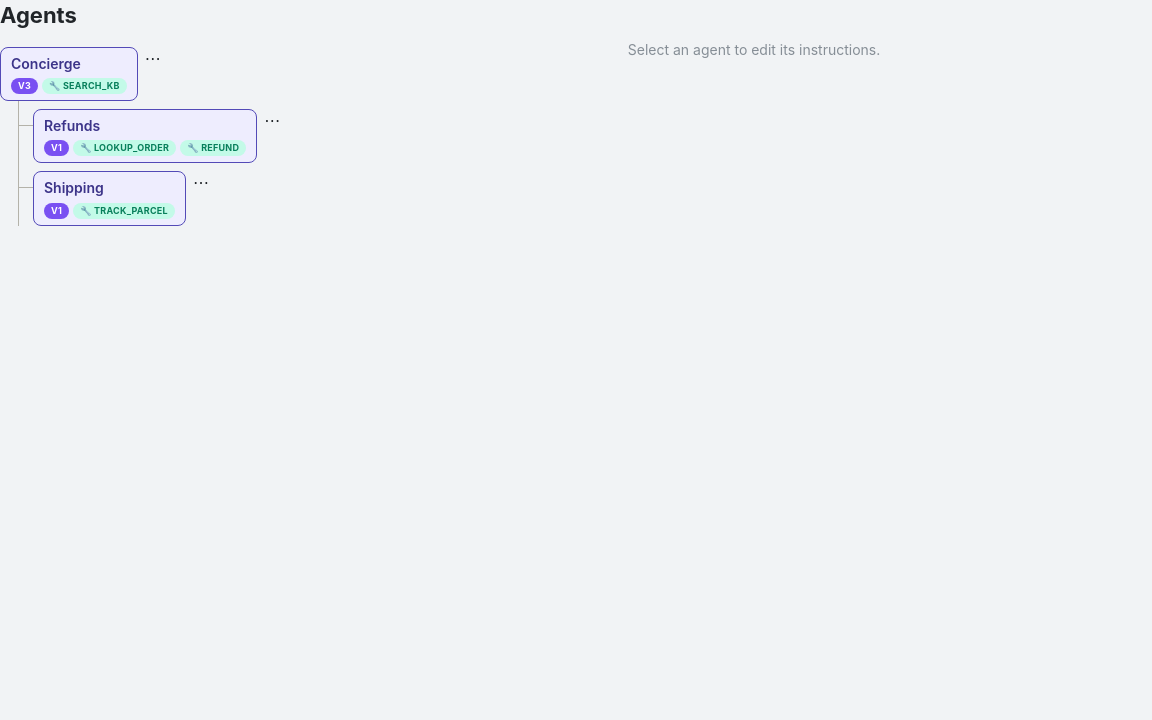
AgentsPage tree view › ⋯ Add sub-agent posts {name, parent_id, tools, format} and shows the v0 node
This screenshot has width=1152, height=720.
Click the button named "Actions for Shipping": (201, 182) x1=190 y1=171 x2=212 y2=193
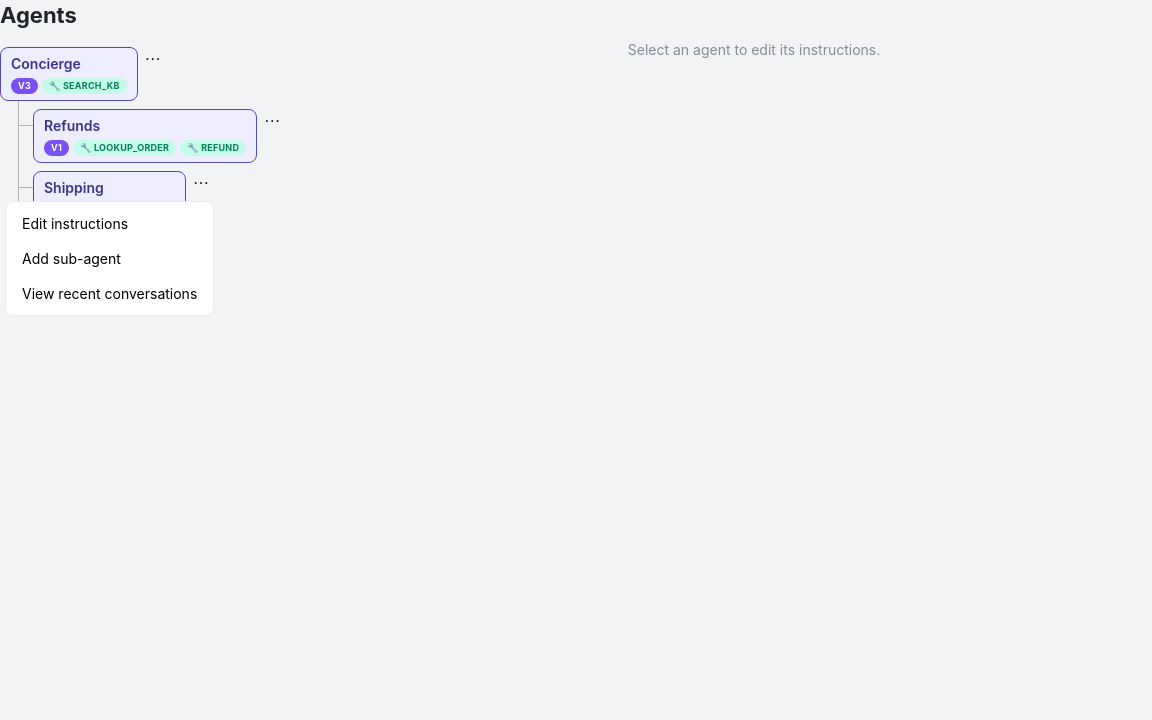
Click the menu item "Add sub-agent": (110, 259) x1=10 y1=241 x2=209 y2=276
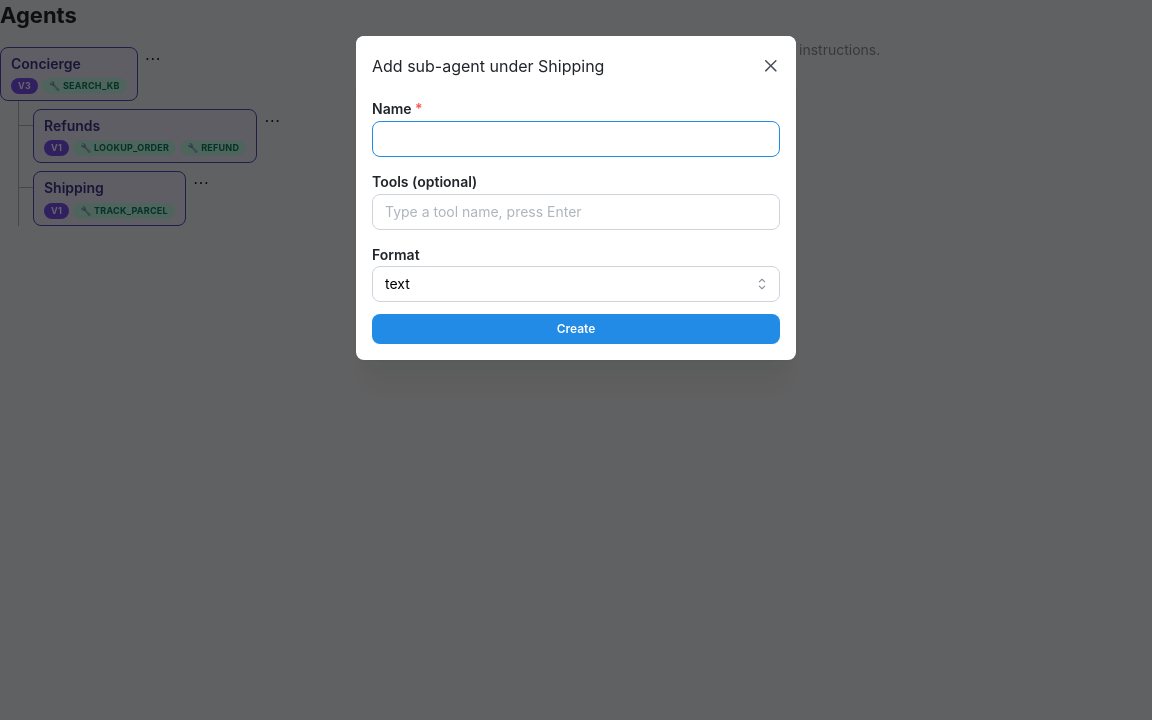
Expected: the heading "Add sub-agent under Shipping" is shown, x1=372 y1=58 x2=604 y2=74
In the field labelled "Name *": (576, 139) x1=372 y1=121 x2=780 y2=157, type "Returns"
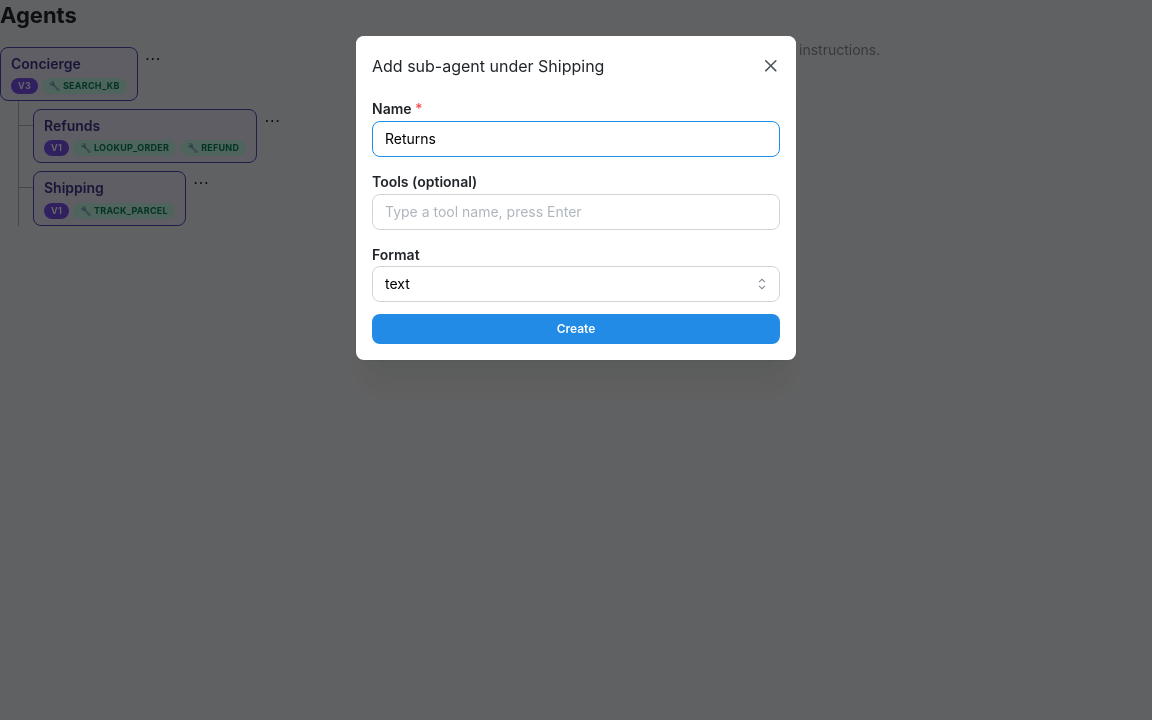
In the dropdown labelled "Tools (optional)": (576, 211) x1=385 y1=200 x2=767 y2=222, type "check_label"
Then press Enter
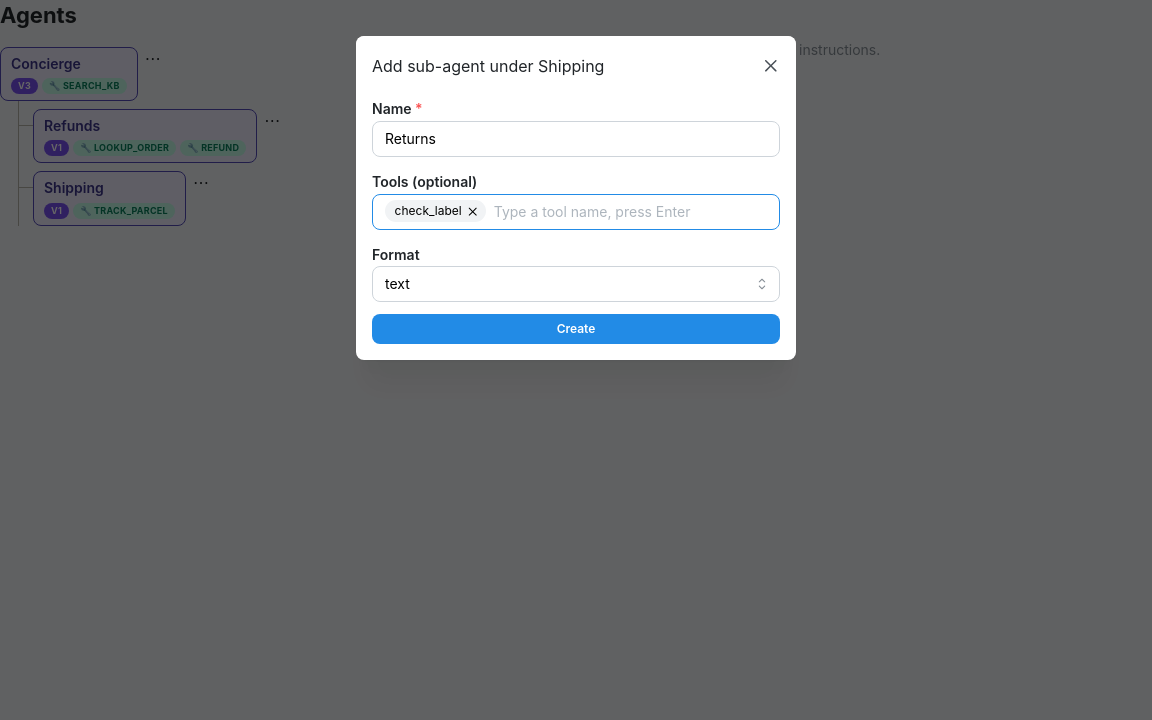
Click the button "Create": (576, 329) x1=372 y1=314 x2=780 y2=344
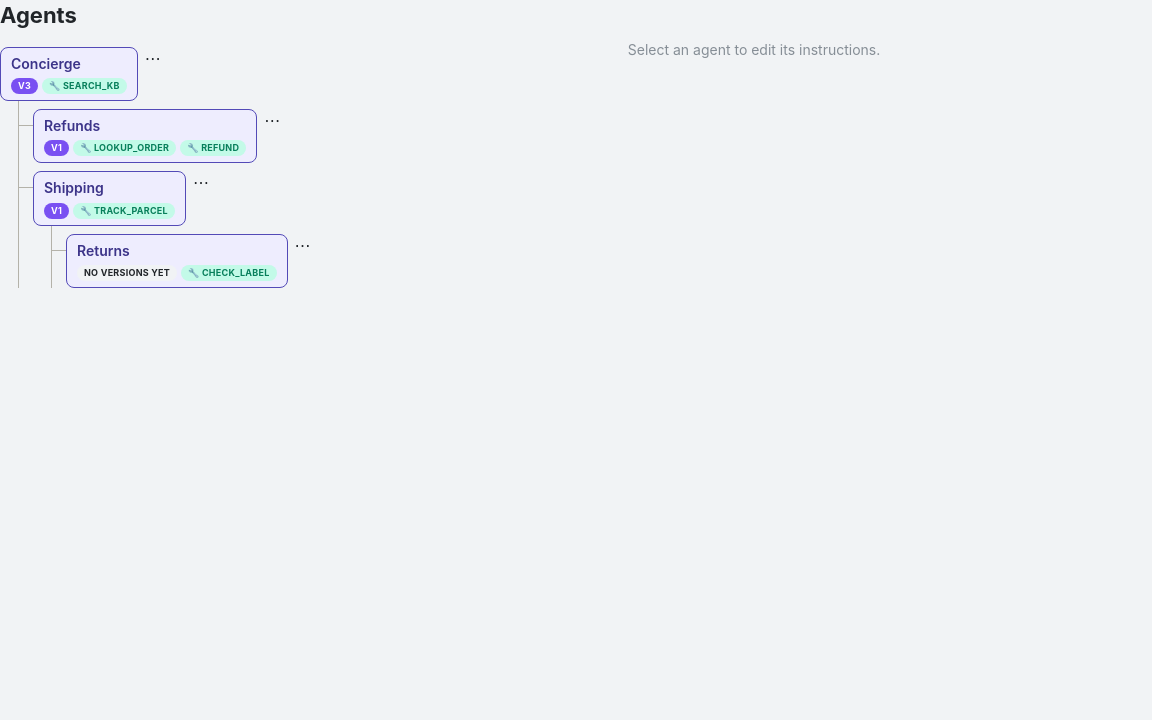
Expected: the text "no versions yet" is shown, x1=84 y1=266 x2=170 y2=280
